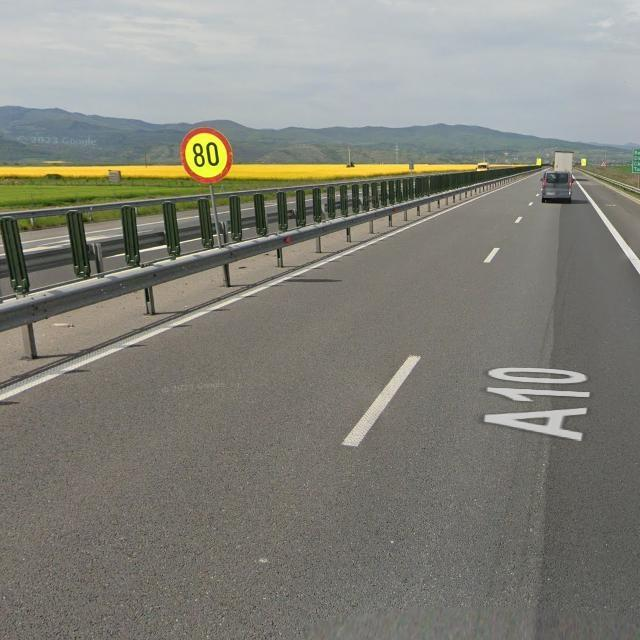forb_speed_over_80: (180, 127, 233, 185)
